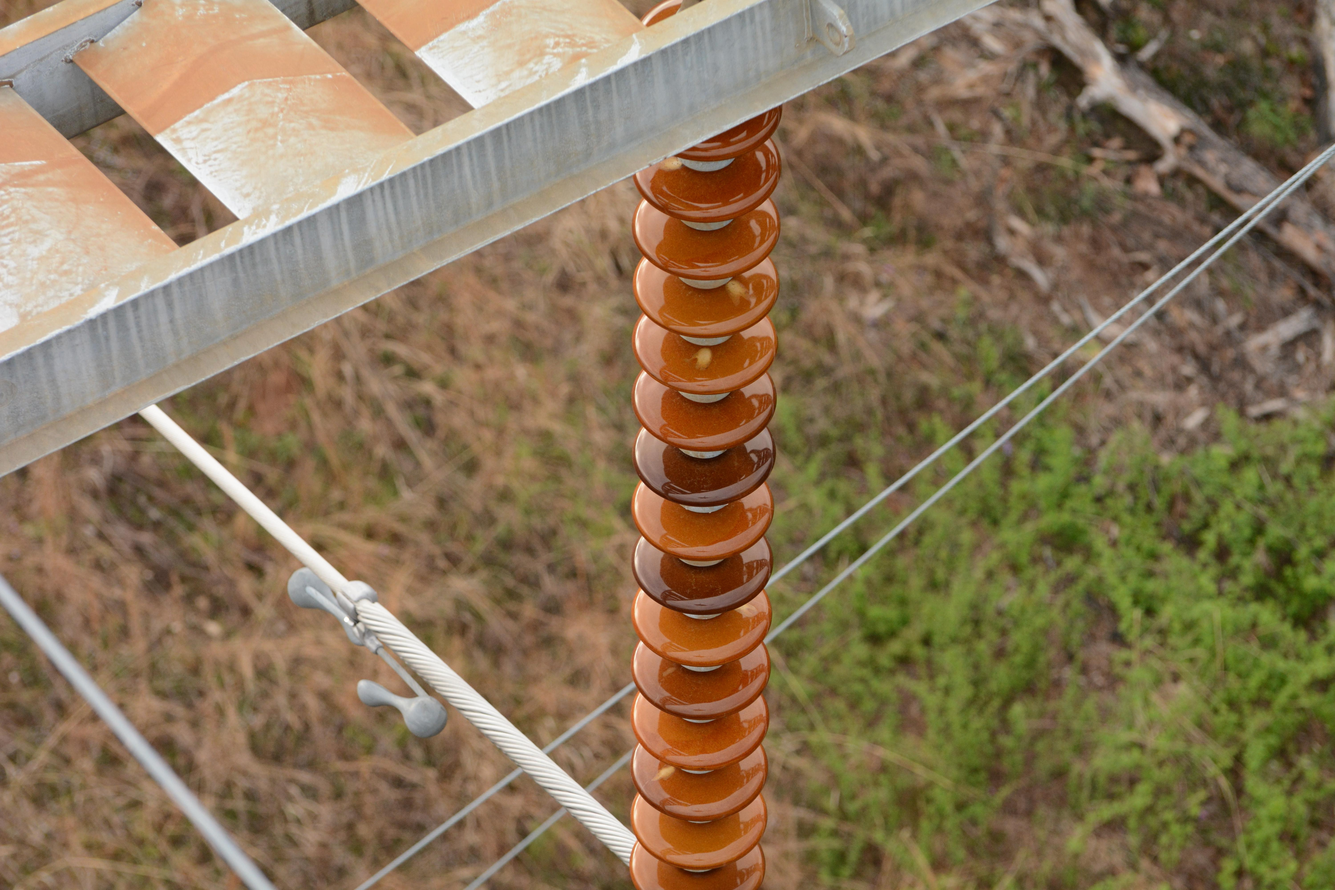Flashover: (721, 273, 756, 309), (689, 342, 724, 376), (651, 149, 685, 176), (651, 759, 683, 786), (730, 594, 762, 619)
hammer: (284, 556, 459, 740)
insulator: (626, 50, 778, 890)
